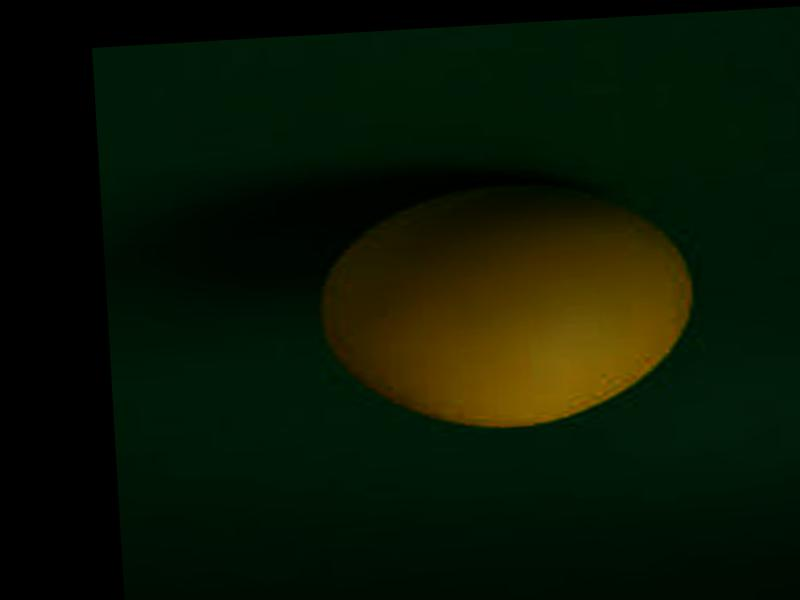Eggs: (324, 171, 705, 439)
